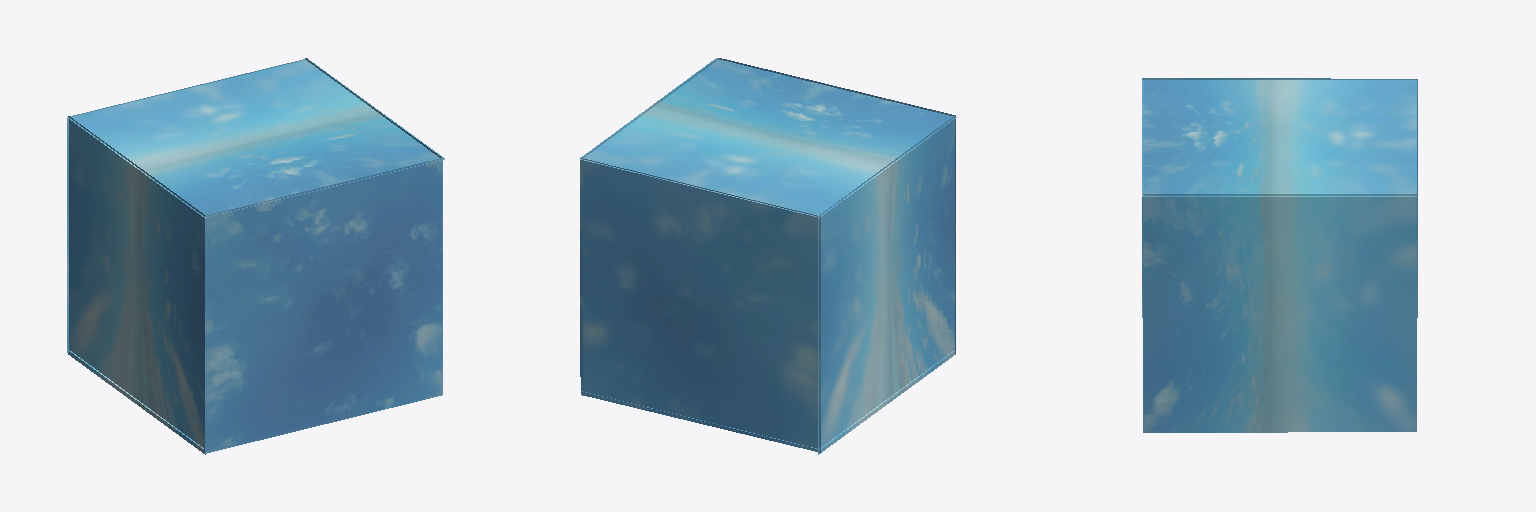
3 views of the same model, side by side, from view 1: azimuth 30°, elevation 25°; view 2: azimuth 150°, elevation 25°; view 3: azimuth 270°, elevation 25° (orthographic).
Visible parts, largest first — view 1: Object_2; view 2: Object_2; view 3: Object_2.
Part boxes in pixels (x1,y1,x2,y2): Object_2: (67, 58, 444, 454); Object_2: (580, 58, 956, 454); Object_2: (1142, 78, 1417, 432).
Size of the model in its own units: 1.06 by 1.01 by 1.05.
Materials: 1 (1 with a texture image).